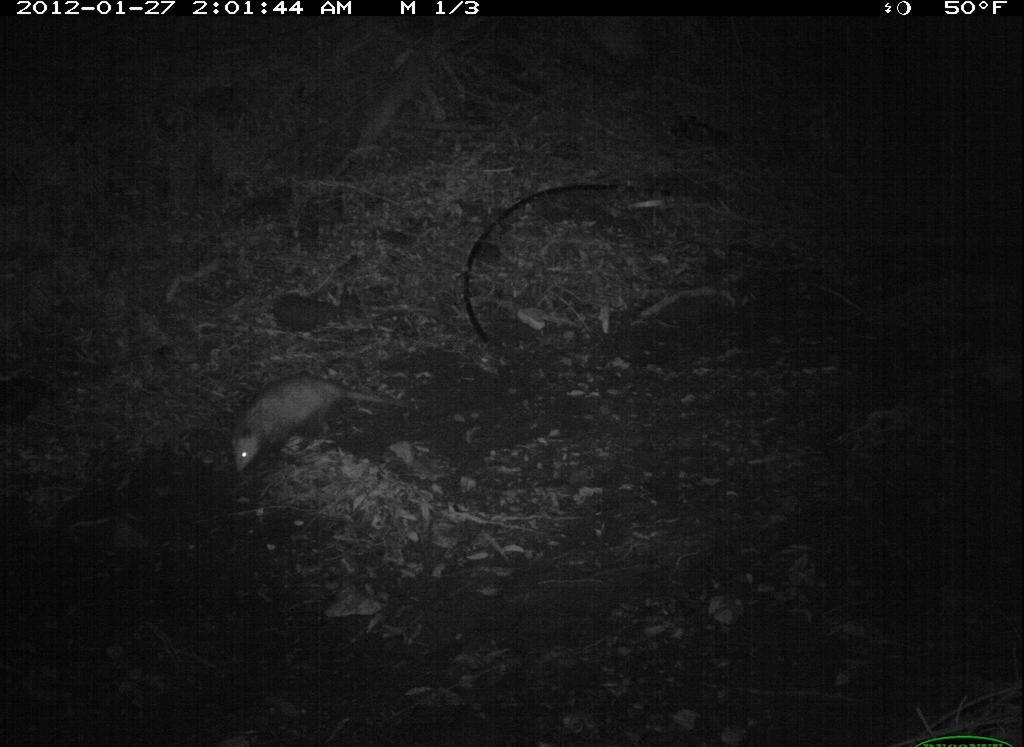opossum: (219, 364, 420, 473)
